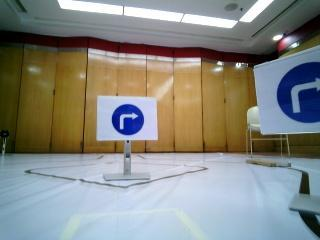right: (256, 66, 320, 131), (97, 97, 158, 137)
